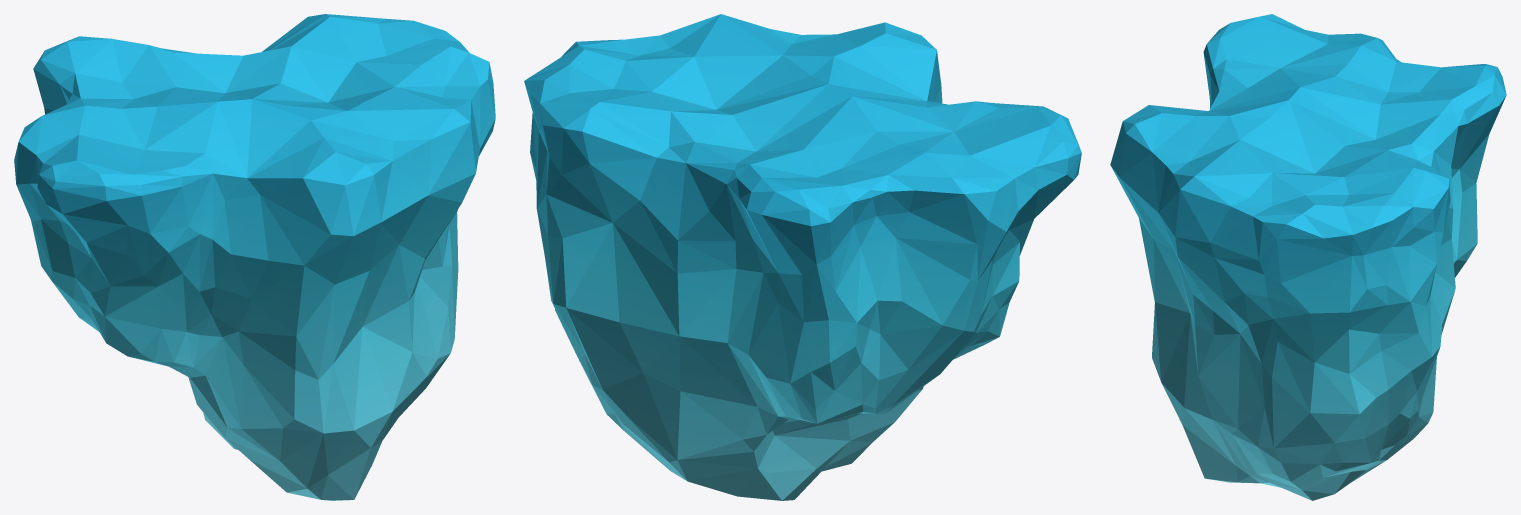
File: ice_014.fbx
3 renders of one model, left to right at view 1: azimuth 30°, elevation 25°; view 2: azimuth 150°, elevation 25°; view 3: azimuth 270°, elevation 25°, orthographic. The views are drawn at different scales.
Visible parts, largest first — view 1: ice_014; view 2: ice_014; view 3: ice_014.
Part boxes in pixels (bbox=[...]): ice_014: bbox=[14, 14, 495, 500]; ice_014: bbox=[524, 14, 1081, 500]; ice_014: bbox=[1110, 14, 1506, 500].
Size of the model in its own units: 348 by 280 by 281.
